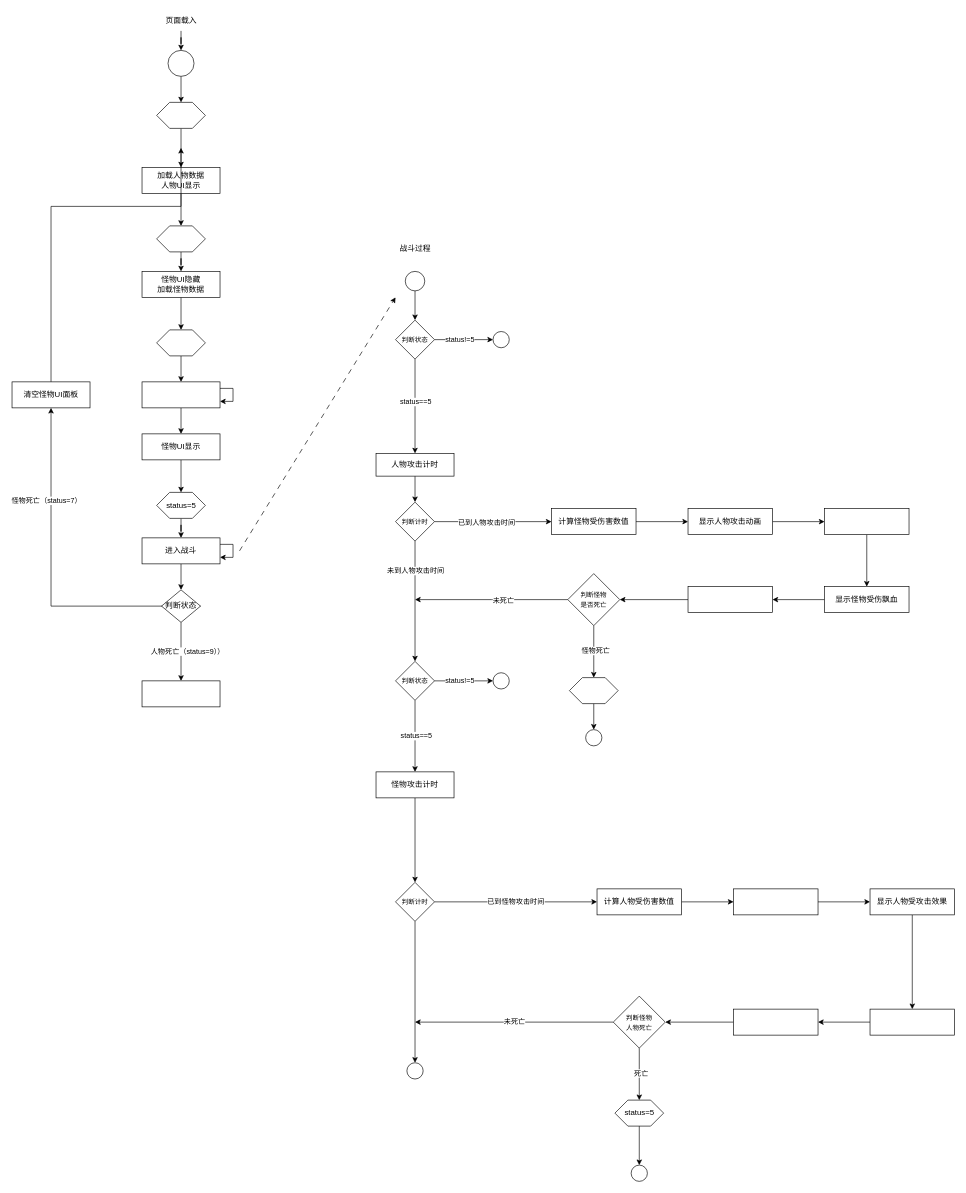
The diagram is 966 pixels wide and 1193 high, and some of its shapes have lost their labels. The shapes that lost their labels are listed below. From the top down, each one's centre as x and y in pixels, then its label:
At point 180,115: "status=1".
At point 180,238: "status=2".
At point 180,342: "status=3".
At point 180,394: "显示文字动画【怪物加载中...】倒计时3秒".
At point 866,521: "显示怪物受攻击效果".
At point 730,599: "更新怪物UI".
At point 180,693: "回到主城".
At point 593,690: "status=7".
At point 775,901: "显示怪物攻击动画".
At point 775,1021: "更新人物UI".
At point 912,1021: "显示人物受伤飘血".
